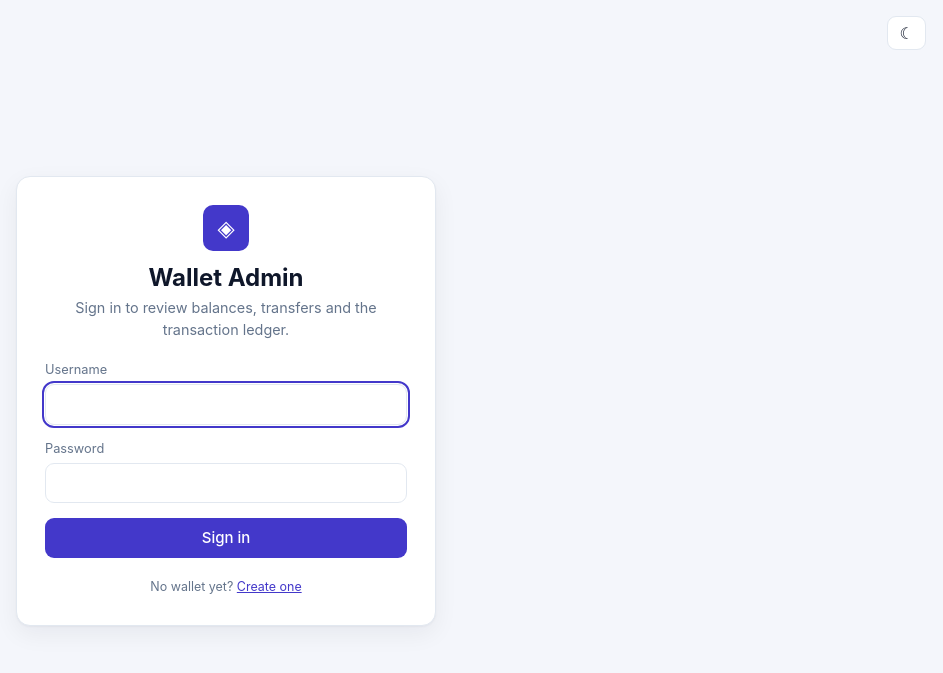
it: login › shows the API message when the credentials are rejected
Type "admin" into the field labelled "Username".
click(226, 404); type("admin")  # box x1=45 y1=384 x2=407 y2=425
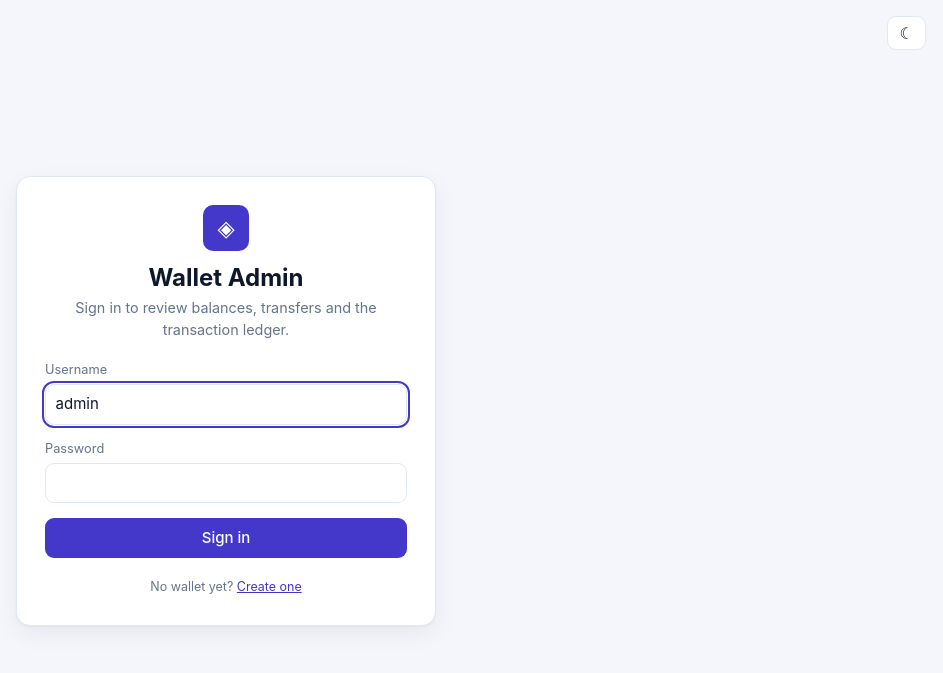
Type "wrong-password" into the password field labelled "Password".
click(226, 483); type("wrong-password")  # box x1=45 y1=463 x2=407 y2=504
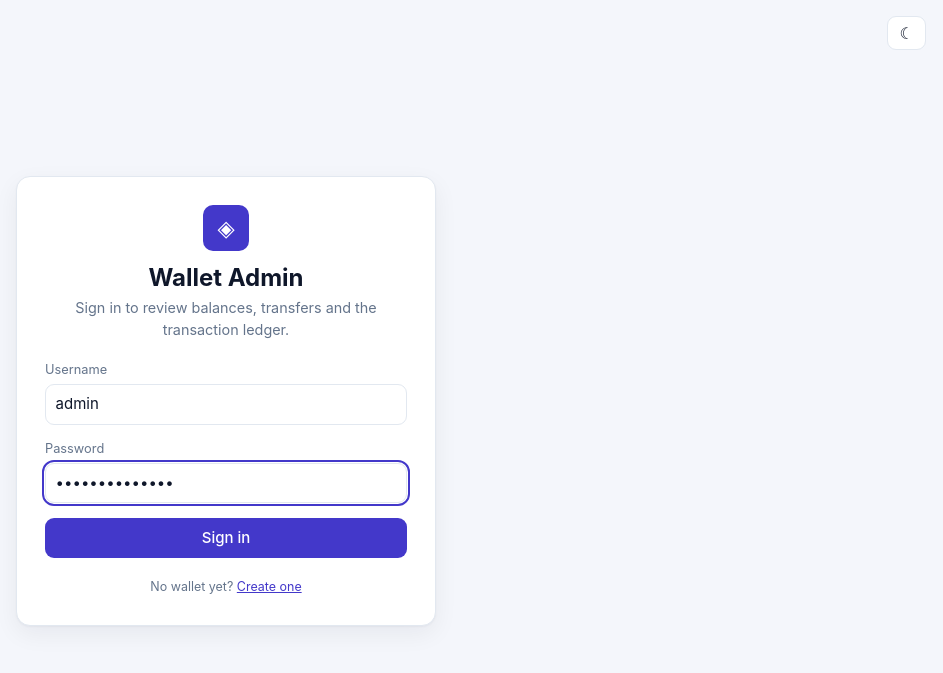
Click the button "Sign in".
click(226, 538)  # box x1=45 y1=518 x2=407 y2=558
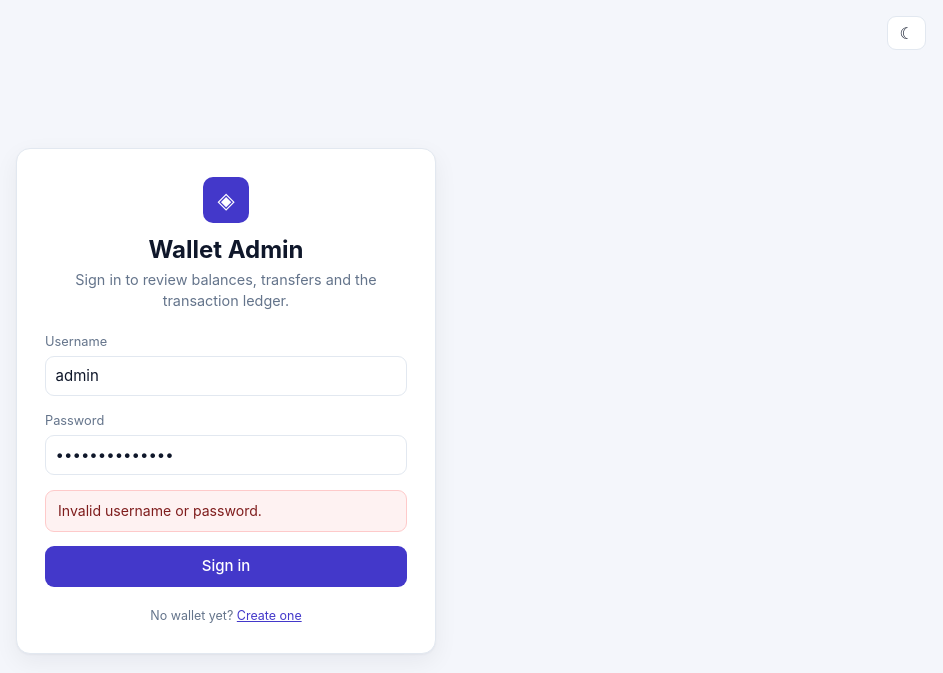
Expected: the message reads "Invalid username or password.", x1=58 y1=502 x2=262 y2=519
